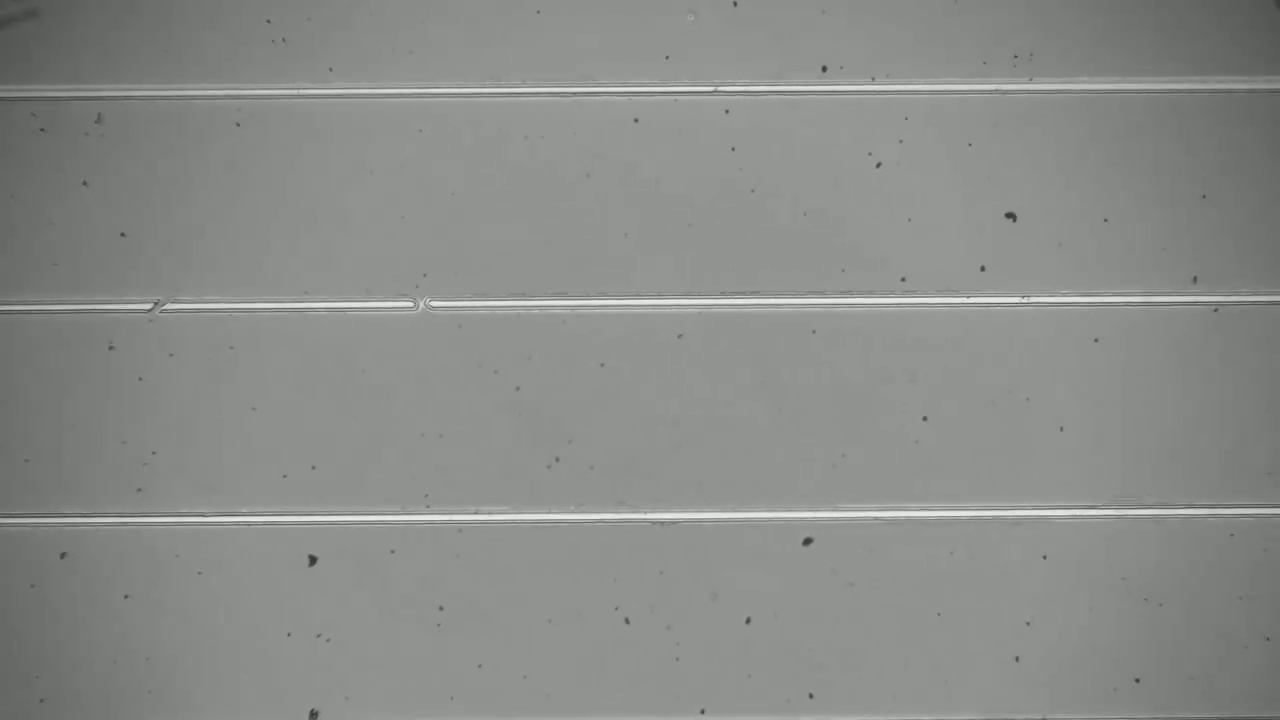open: (140, 287, 179, 328), (406, 286, 446, 323)
